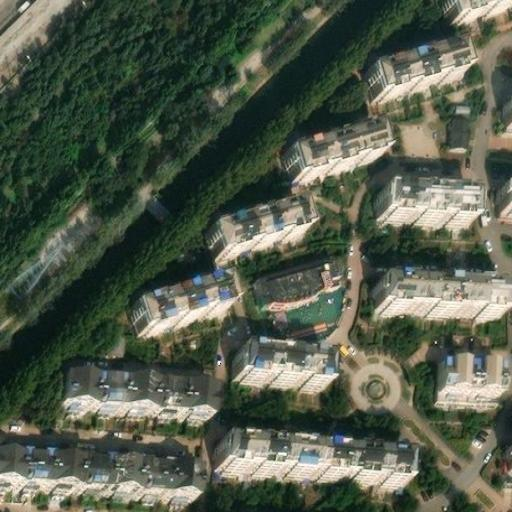building: (0, 447, 198, 491), (222, 431, 408, 474), (53, 368, 210, 411), (287, 120, 387, 176), (208, 195, 306, 251), (130, 274, 229, 328), (368, 39, 464, 94), (366, 274, 499, 311), (259, 246, 341, 296), (380, 180, 475, 217), (237, 341, 327, 378), (435, 357, 503, 392), (445, 0, 512, 19), (448, 108, 472, 143), (497, 95, 512, 136), (499, 175, 512, 203)
